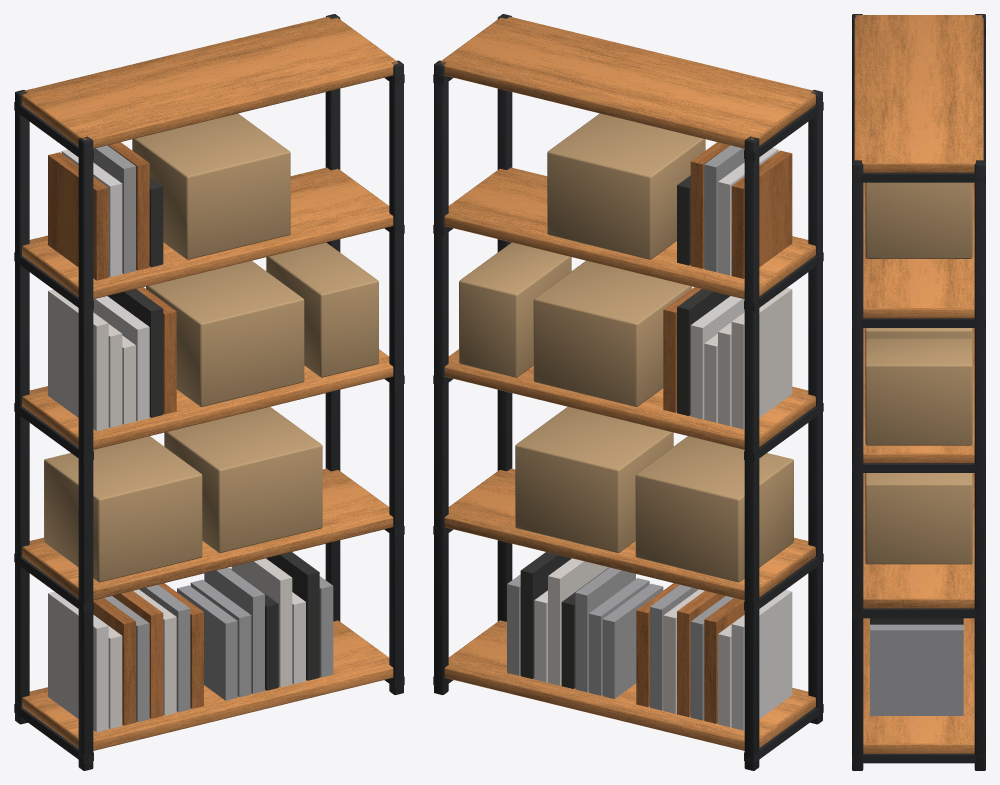
File: storage.modular-divider-shelf.glb
The picture shows the model from 3 angles, left to right: view 1: azimuth 30°, elevation 25°; view 2: azimuth 150°, elevation 25°; view 3: azimuth 270°, elevation 25°; orthographic projection. The views are drawn at different scales.
Visible parts, largest first — view 1: storage.modular-divider-shelf.001; view 2: storage.modular-divider-shelf.001; view 3: storage.modular-divider-shelf.001.
Boxes of the visible parts, x1=… form: storage.modular-divider-shelf.001: x1=14, y1=14, x2=404, y2=770; storage.modular-divider-shelf.001: x1=433, y1=14, x2=823, y2=770; storage.modular-divider-shelf.001: x1=852, y1=14, x2=985, y2=770.
Bounding box in the file's own units: 0.8 × 1.5 × 0.3.
8 materials, 2 textured.
